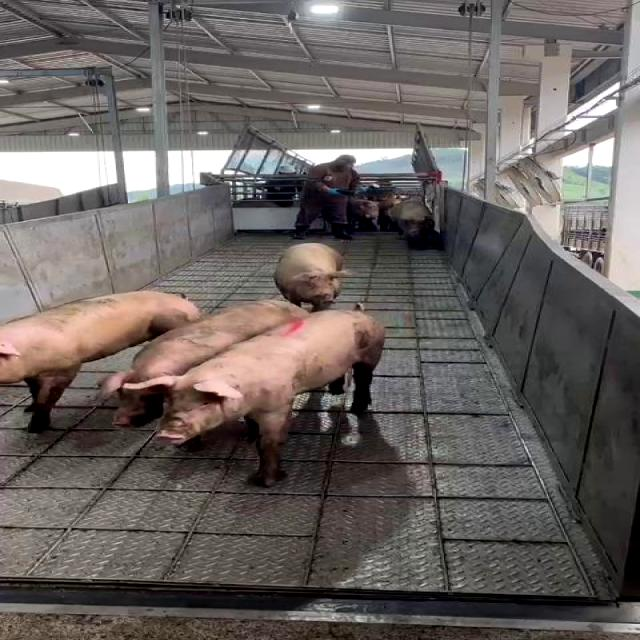pig: (128, 310, 385, 486), (100, 299, 308, 429), (0, 291, 200, 425), (275, 242, 355, 311)
